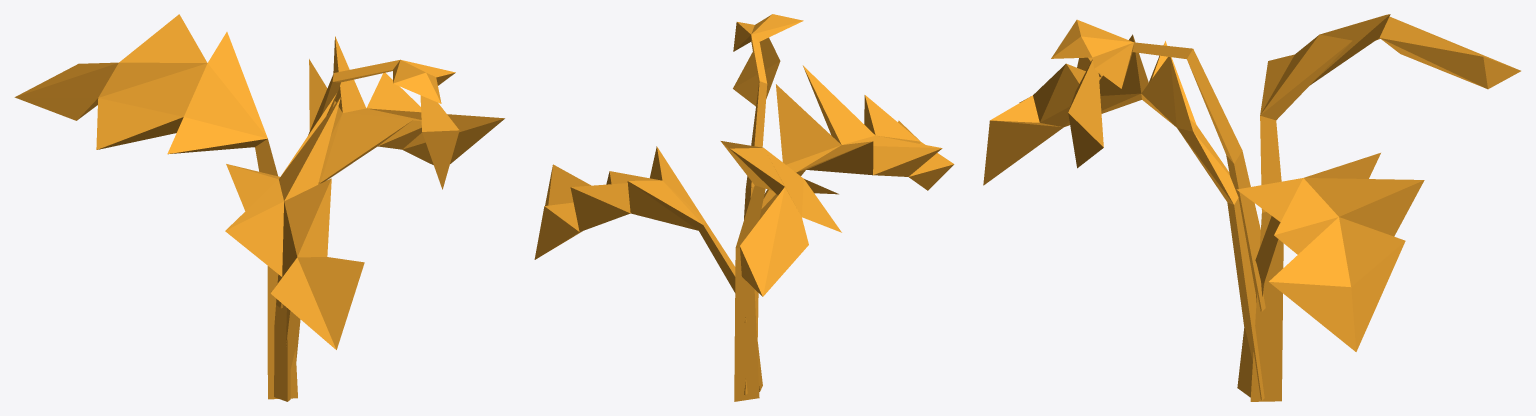
The model's file is SM_Carrot_Plant_Dead.fbx.
3 views of the same model, side by side, from view 1: azimuth 30°, elevation 25°; view 2: azimuth 150°, elevation 25°; view 3: azimuth 270°, elevation 25° (orthographic). The views are drawn at different scales.
Visible parts, largest first — view 1: carrot-plant-dead; view 2: carrot-plant-dead; view 3: carrot-plant-dead.
Boxes of the visible parts, <box> form: carrot-plant-dead: <box>14,14,504,401</box>; carrot-plant-dead: <box>534,14,954,401</box>; carrot-plant-dead: <box>983,14,1520,401</box>.
Bounding box in the file's own units: 0.2334 × 0.223 × 0.2784.
